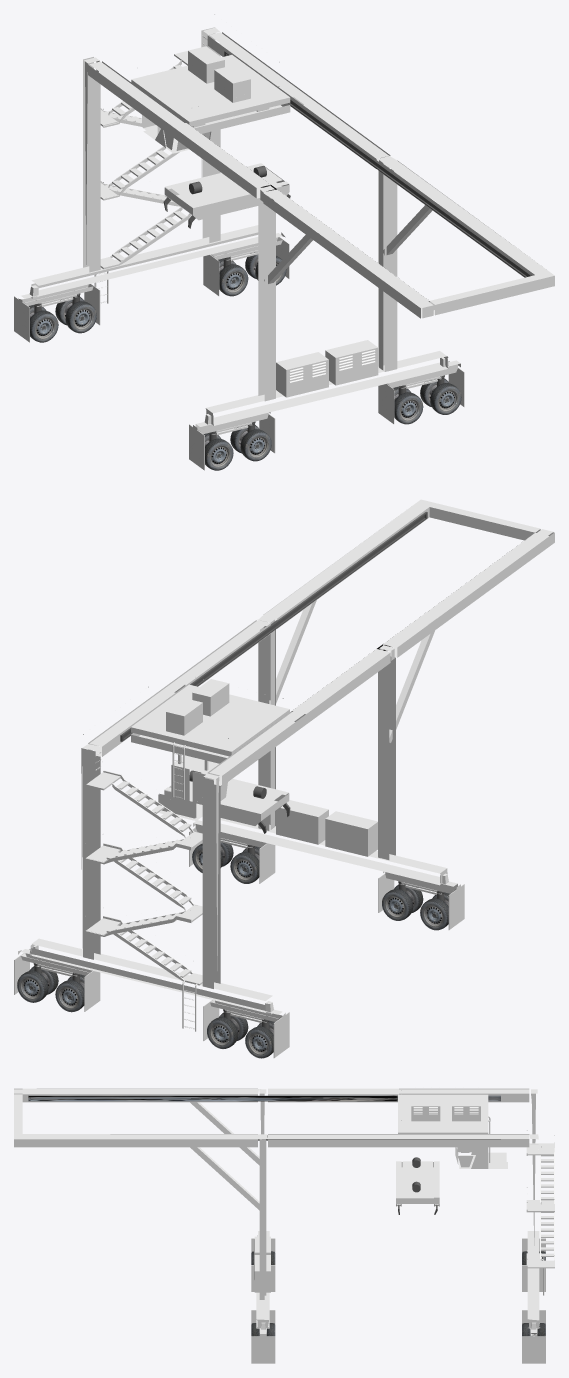
File: crane_gantry.glb
3 views of the same model, one above another, from view 1: azimuth 30°, elevation 25°; view 2: azimuth 150°, elevation 25°; view 3: azimuth 270°, elevation 25° (orthographic). The views are drawn at different scales.
Visible parts, largest first — view 1: Object_7, Object_4, Object_5, Object_8, Object_6; view 2: Object_7, Object_4, Object_5, Object_8, Object_6; view 3: Object_7, Object_4, Object_5, Object_8, Object_6.
Boxes of the visible parts, box(x1,y1,x2,y2) form: Object_7: box(18, 27, 554, 434); Object_4: box(37, 14, 441, 435); Object_5: box(28, 185, 461, 470); Object_8: box(14, 237, 464, 470); Object_6: box(30, 51, 531, 456); Object_7: box(18, 499, 554, 1021); Object_4: box(36, 589, 441, 1031); Object_5: box(17, 644, 449, 1058); Object_8: box(14, 827, 464, 1057); Object_6: box(30, 512, 448, 1044); Object_7: box(14, 1088, 540, 1336); Object_4: box(190, 1090, 554, 1295); Object_5: box(28, 1095, 545, 1336); Object_8: box(251, 1238, 545, 1363); Object_6: box(258, 1135, 537, 1335).
Size of the model in its own units: 27.24 by 28 by 62.58.
6 materials, 1 textured.
